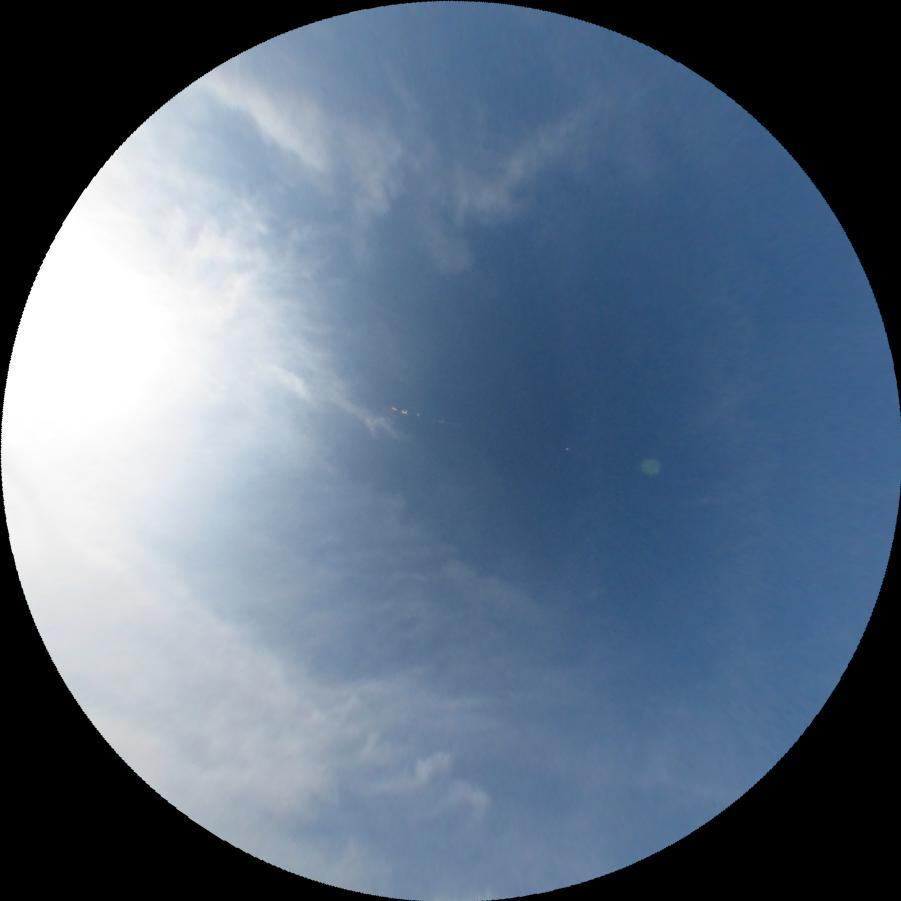contrail young: (231, 56, 239, 103)
sun: (0, 222, 209, 525)
